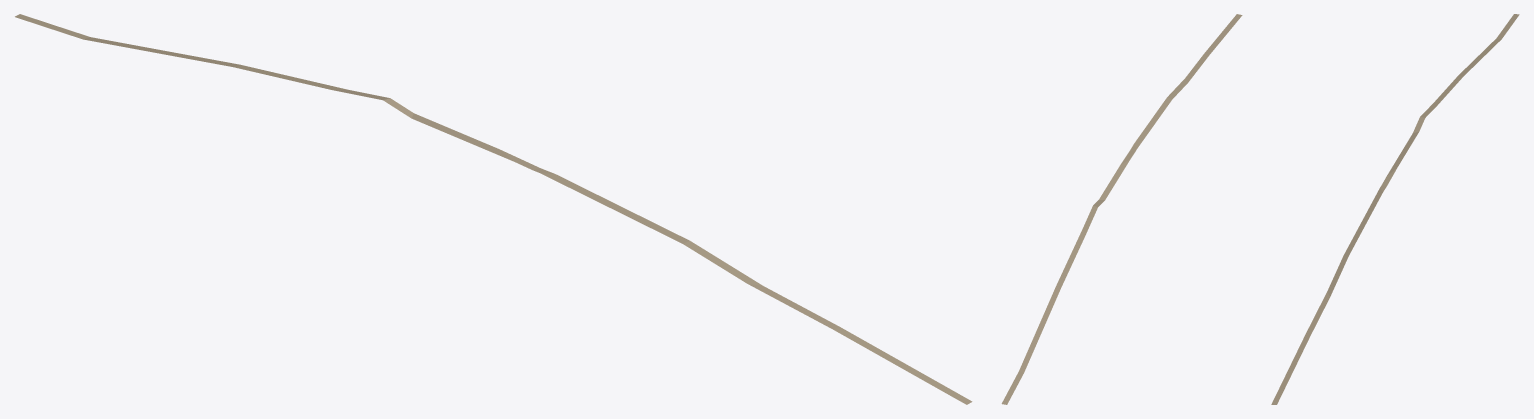
Rendered from farm_-34_-27_track.glb.
3 renders of one model, left to right at view 1: azimuth 30°, elevation 25°; view 2: azimuth 150°, elevation 25°; view 3: azimuth 330°, elevation 25°, orthographic. The views are drawn at different scales.
Parts seen in each view (by area): view 1: geometry_0; view 2: geometry_0; view 3: geometry_0.
Boxes of the visible parts, x1,y1,x2,y2 form: geometry_0: (15,14,972,404); geometry_0: (1001,14,1242,404); geometry_0: (1271,14,1519,404).
Bounding box in the file's own units: 144 × 30.56 × 509.
